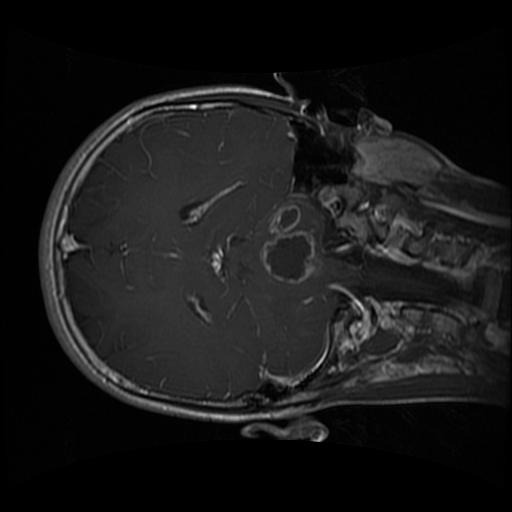glioma: (255, 198, 318, 285)
